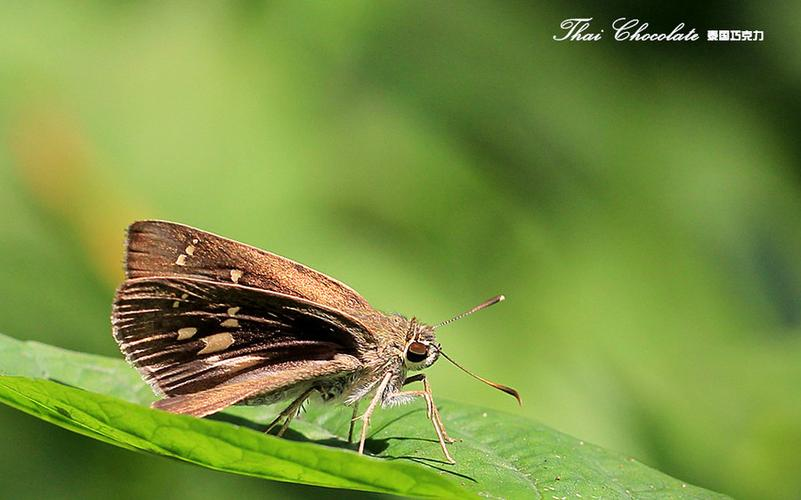Hesperiidae: (110, 214, 529, 464)
